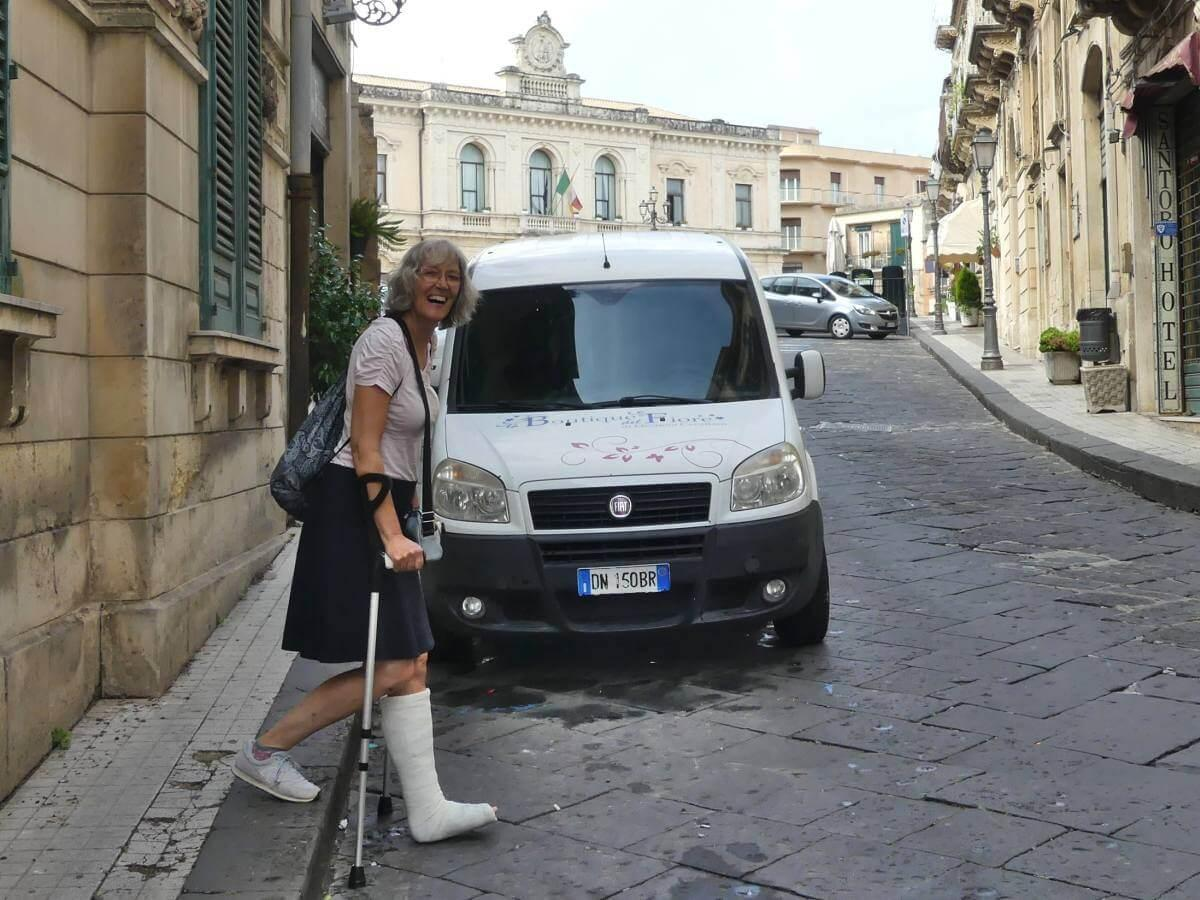crutches: (231, 240, 498, 886)
